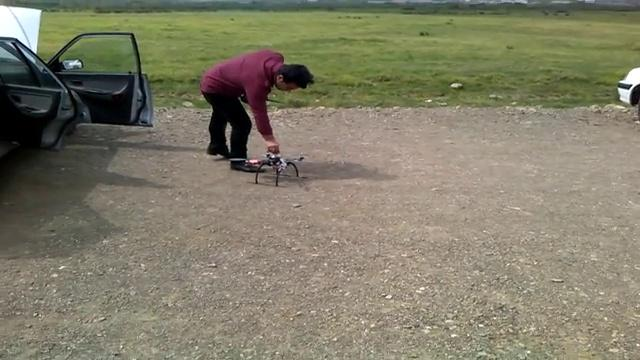drone: (228, 151, 306, 185)
